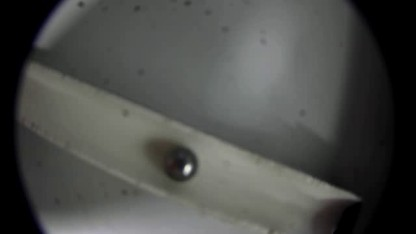gangzhu: (160, 144, 197, 182)
